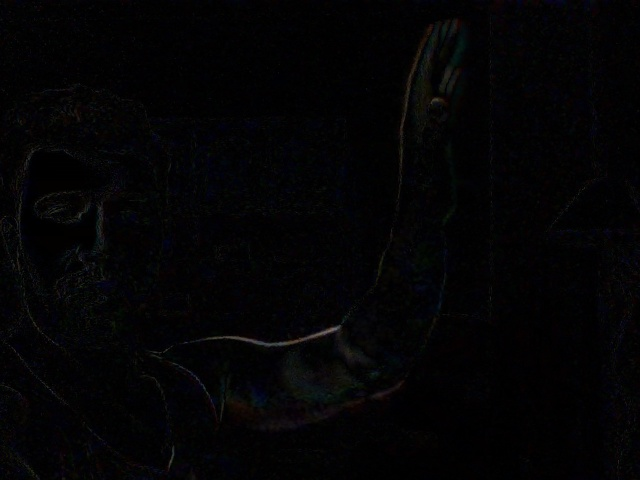arm_fo: (350, 15, 477, 411)
